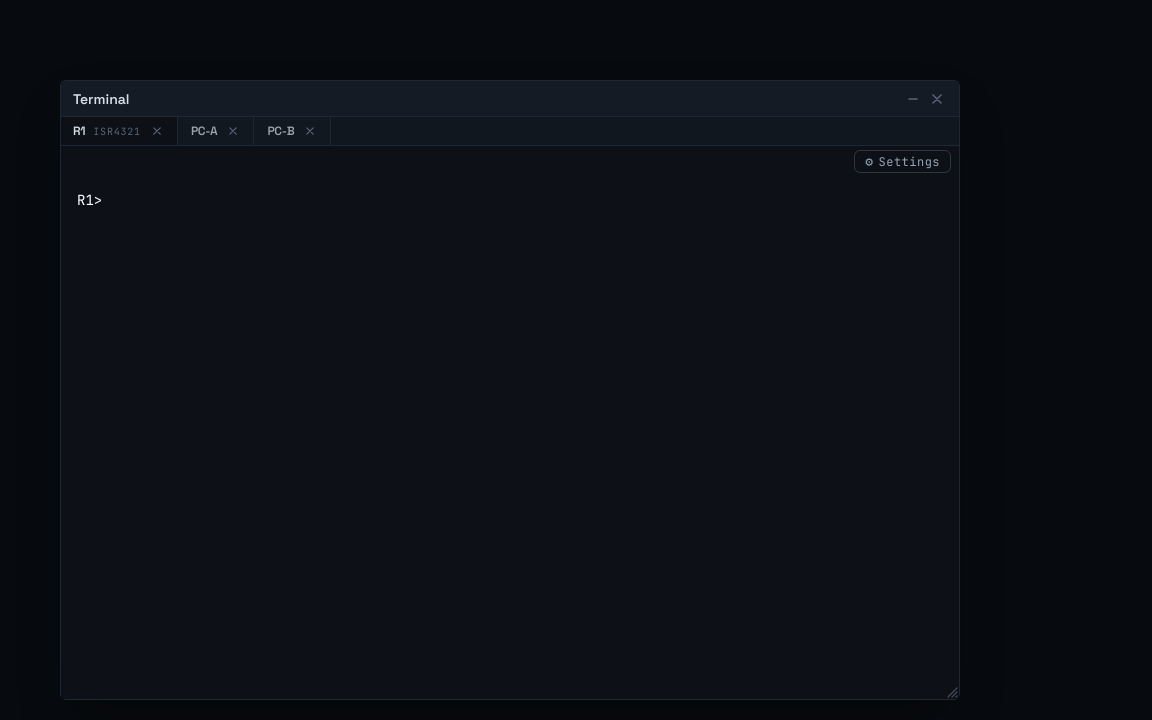
Scenario: FloatingTerminalPanel › minimized snap-bar shows "Terminal — N devices" with the open tab count
Click the button named "Minimize terminal" at x=913, y=98, box [903,88,923,108]
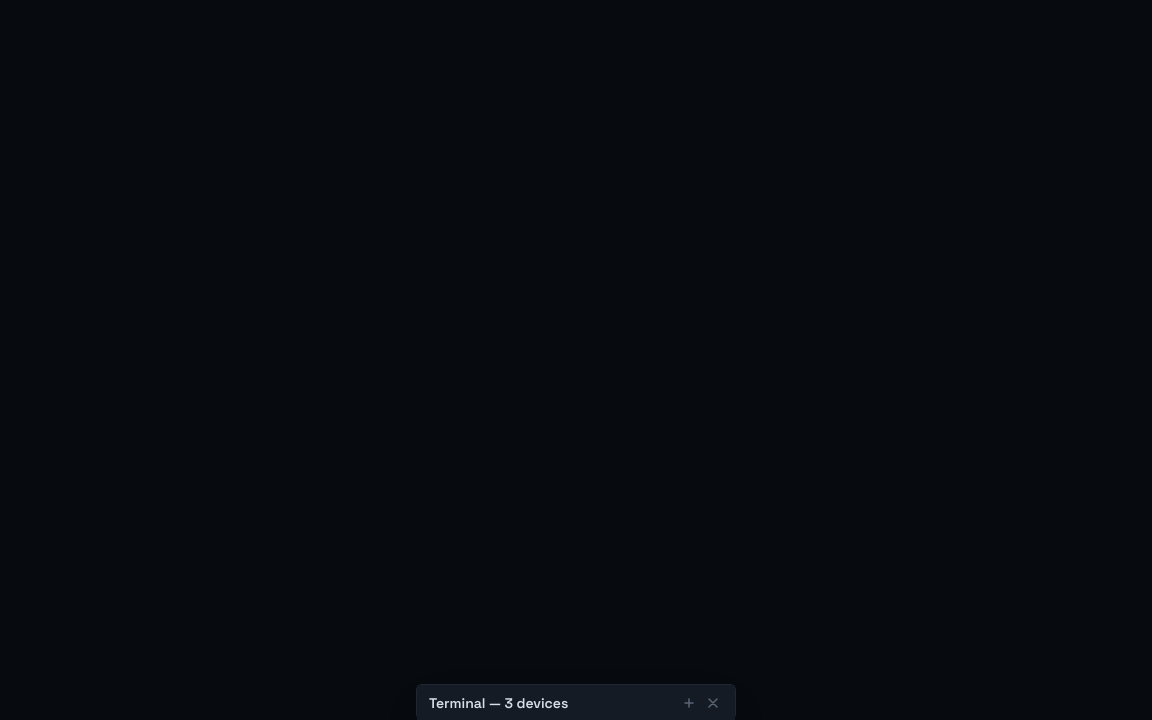
Check: the text "Terminal — 3 devices" is shown, box [429,692,568,712]
